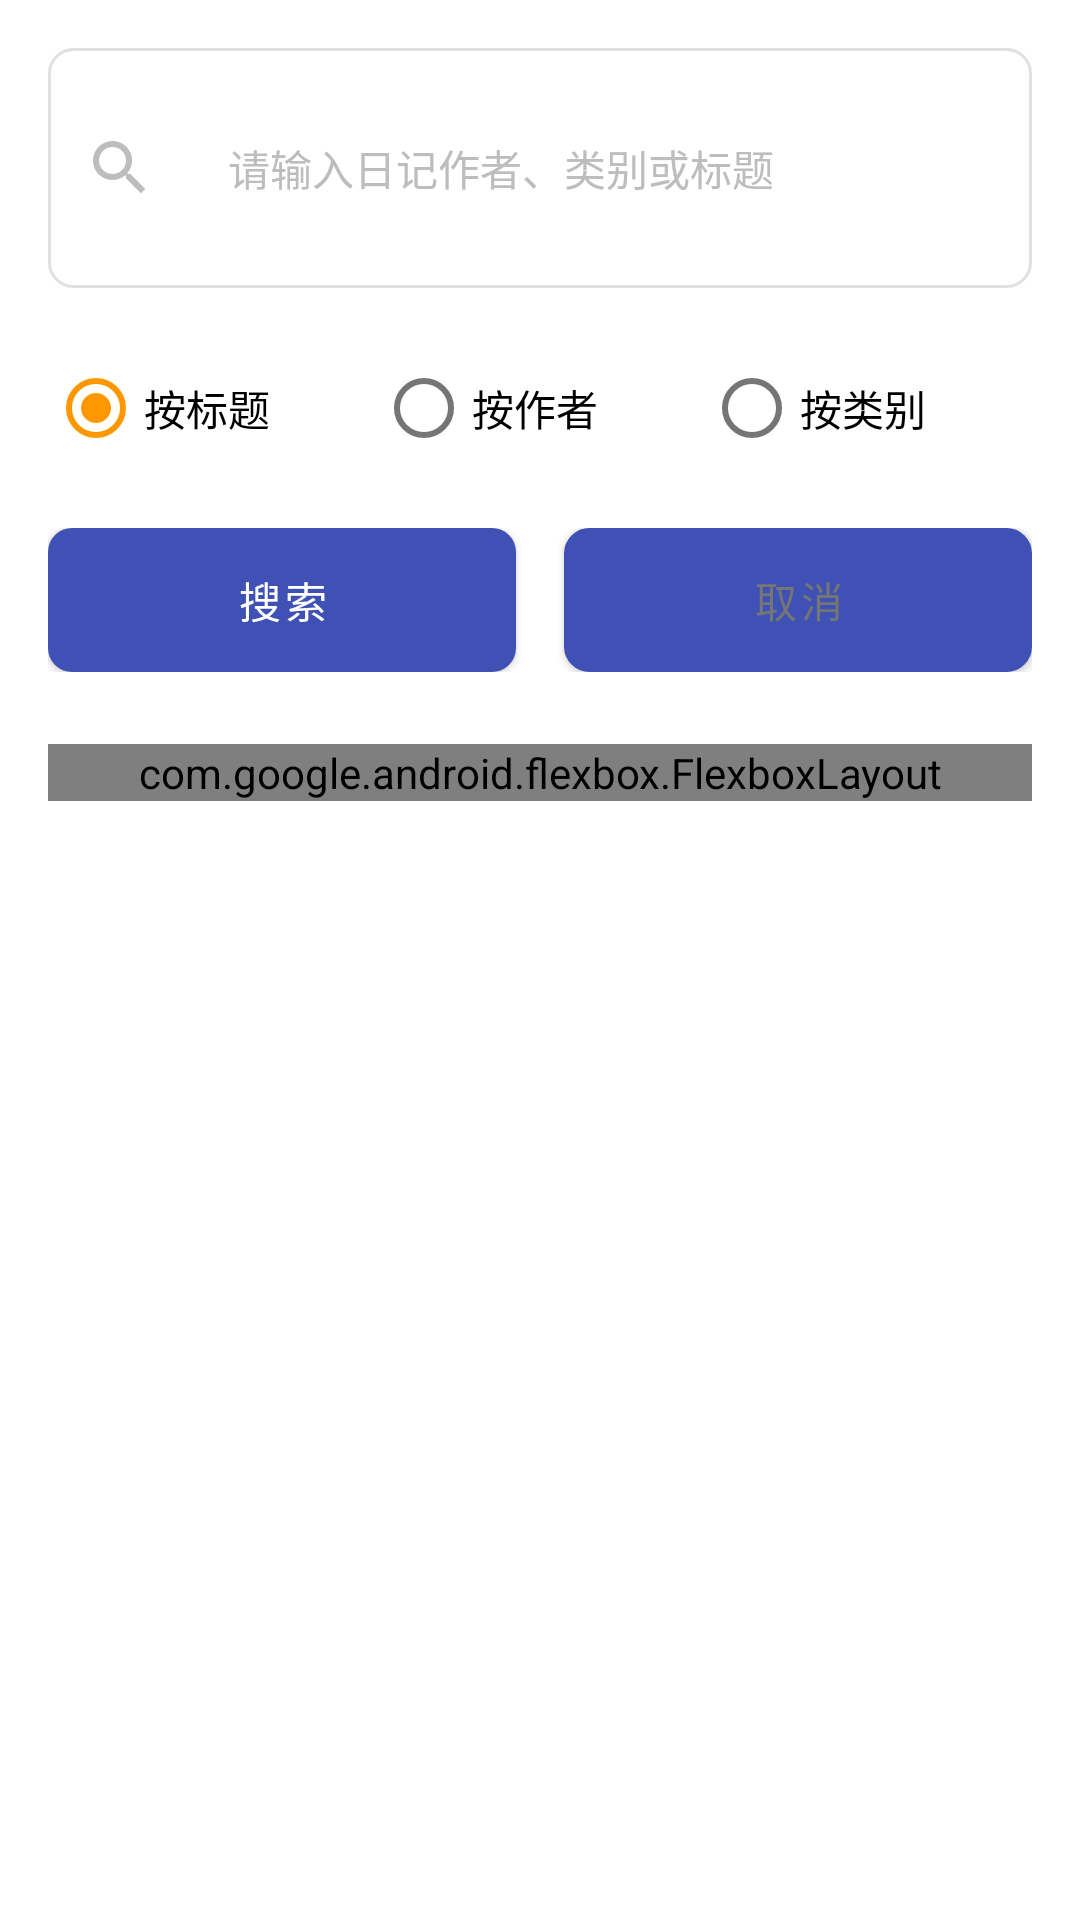

Point at icon controls on the screen. Image size 1080 x 1920, points as point (x, y).
search: point (119, 167)
